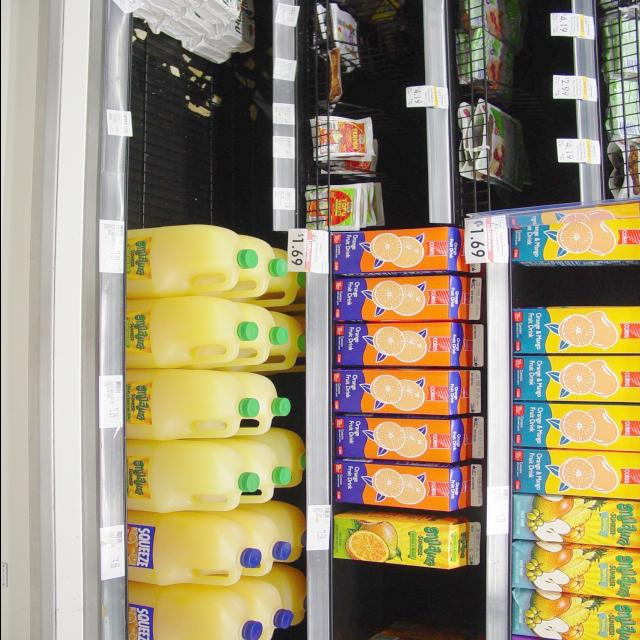empty_space: (122, 63, 268, 221), (334, 569, 482, 640), (509, 269, 639, 309), (343, 60, 382, 116)
